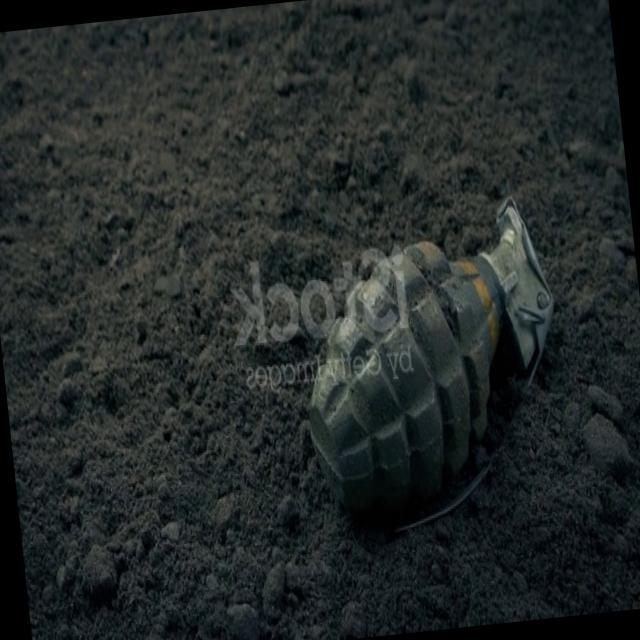grenade: (288, 196, 580, 548)
